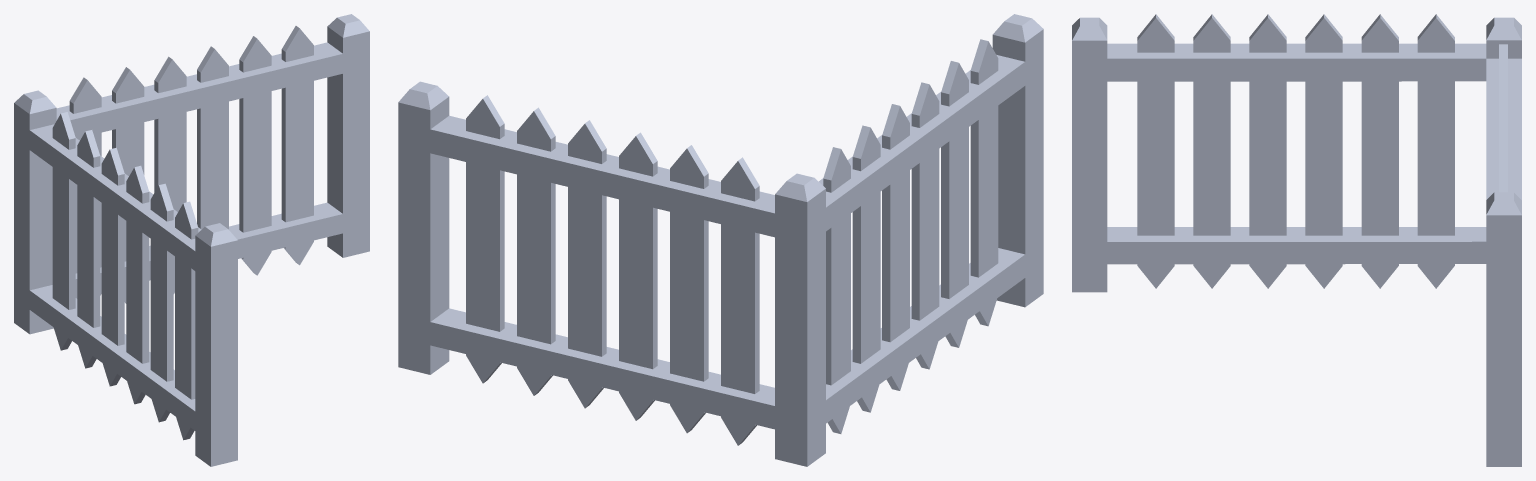
Rendered from IsometricTile_Light_Obstacle_2.fbx.
The picture shows the model from 3 angles, left to right: view 1: azimuth 30°, elevation 25°; view 2: azimuth 150°, elevation 25°; view 3: azimuth 270°, elevation 25°; orthographic projection. The views are drawn at different scales.
Parts seen in each view (by area): view 1: Cube.039; view 2: Cube.039; view 3: Cube.039.
Boxes of the visible parts, <box> form: Cube.039: <box>14,14,369,466</box>; Cube.039: <box>398,14,1043,466</box>; Cube.039: <box>1072,14,1521,466</box>.
Bounding box in the file's own units: 0.9566 × 0.9583 × 0.6376.
